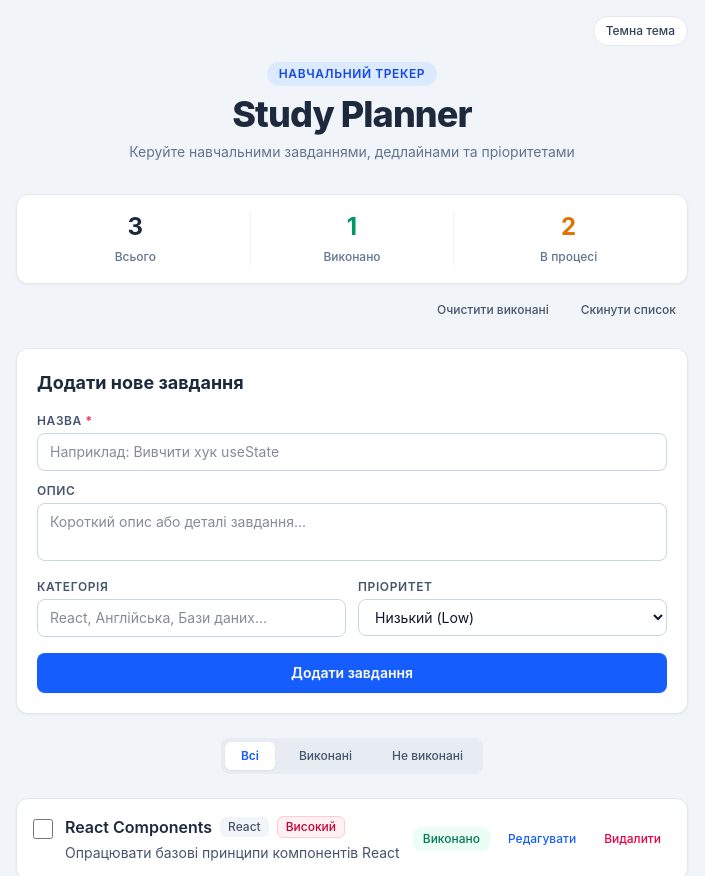
Test: Study Planner (App) › показує помилку валідації, якщо поле назви порожнє
The image size is (705, 876).
What coordinates should you click on to do the following:
click the button "Додати завдання"
I would click on:
 (352, 673)
Its box is top-left (37, 653), bottom-right (667, 693).
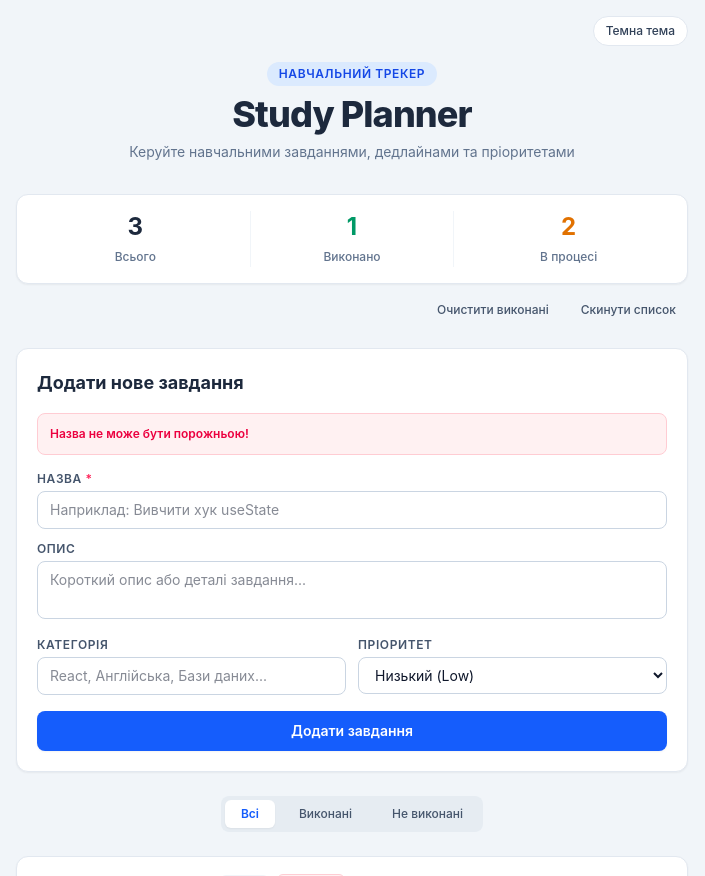
Expected: the text "Назва не може бути порожньою!" is shown, top-left (37, 413), bottom-right (667, 455)
